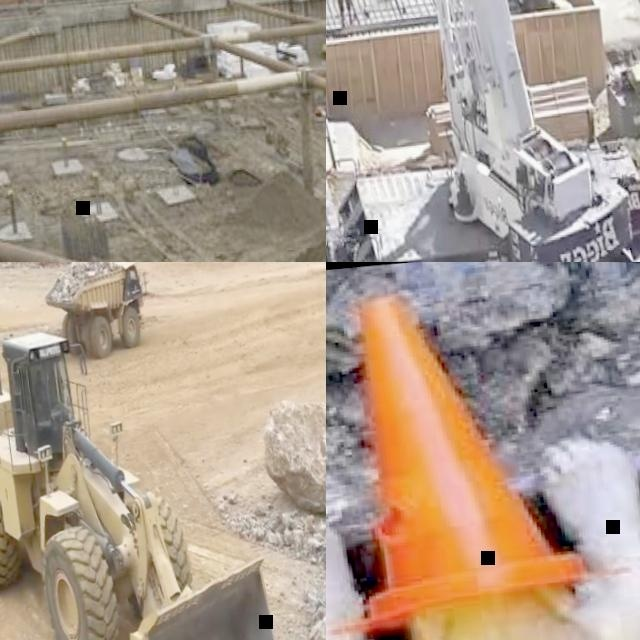Person: (29, 366, 50, 415), (326, 0, 354, 26)
Safety Cone: (326, 276, 577, 640)
machinery: (0, 295, 287, 640), (326, 0, 640, 262), (37, 262, 153, 365)
